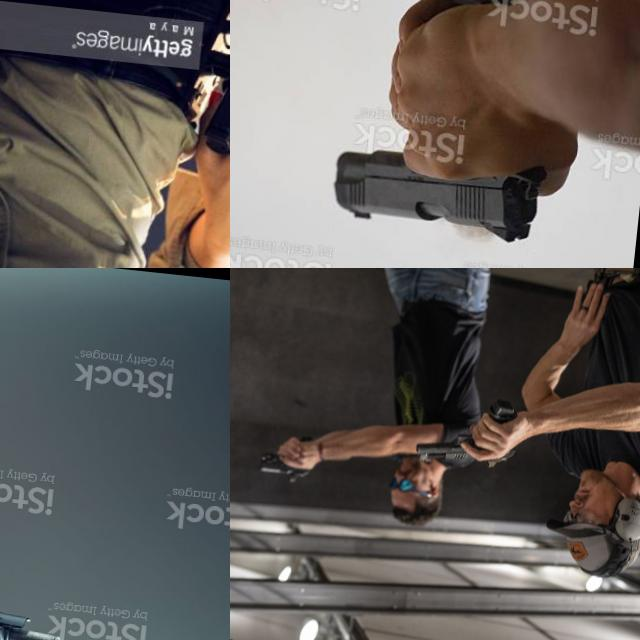handgun: (321, 0, 570, 249), (0, 439, 141, 640), (408, 384, 522, 473), (195, 0, 230, 168), (254, 424, 318, 486)
